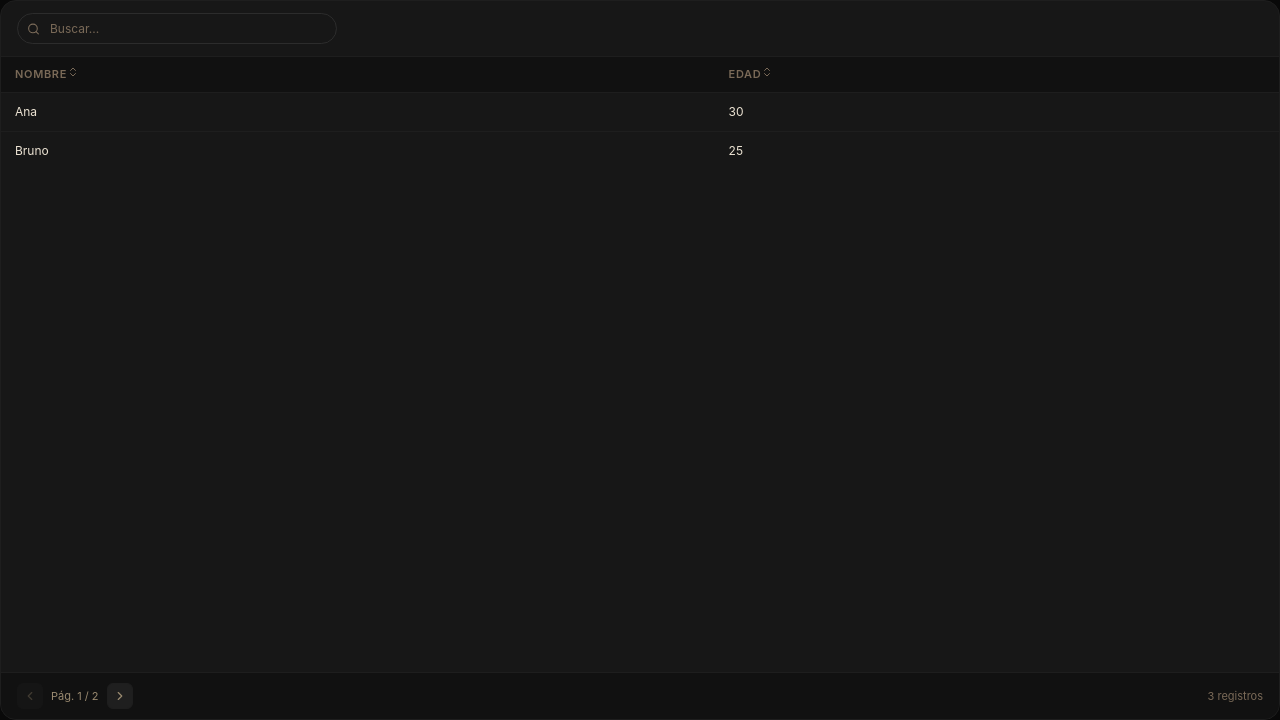
Test: DataTable › pagination: previous button returns to the first page
Click the button named "Página siguiente" at (120, 696), box top-left (106, 683), bottom-right (132, 709)
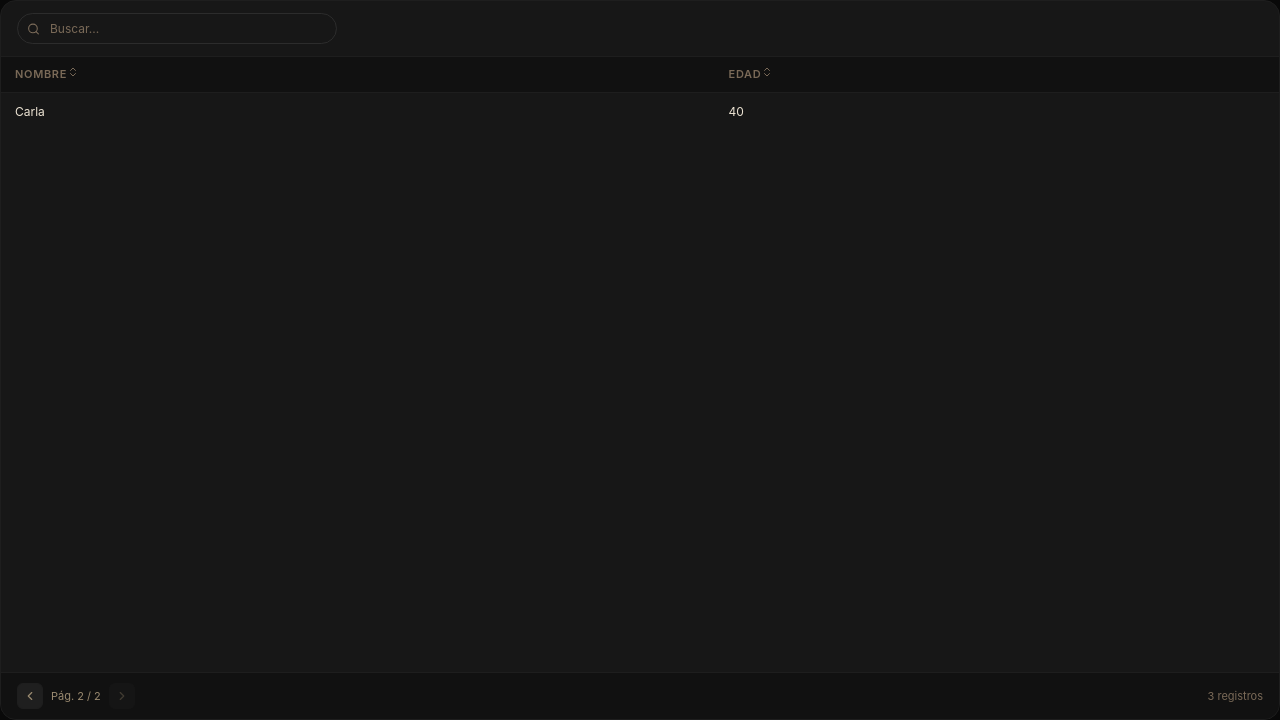
Check: the text "Carla" is shown, box top-left (1, 92), bottom-right (715, 130)
Click the button named "Página anterior" at (30, 696), box top-left (17, 683), bottom-right (43, 709)
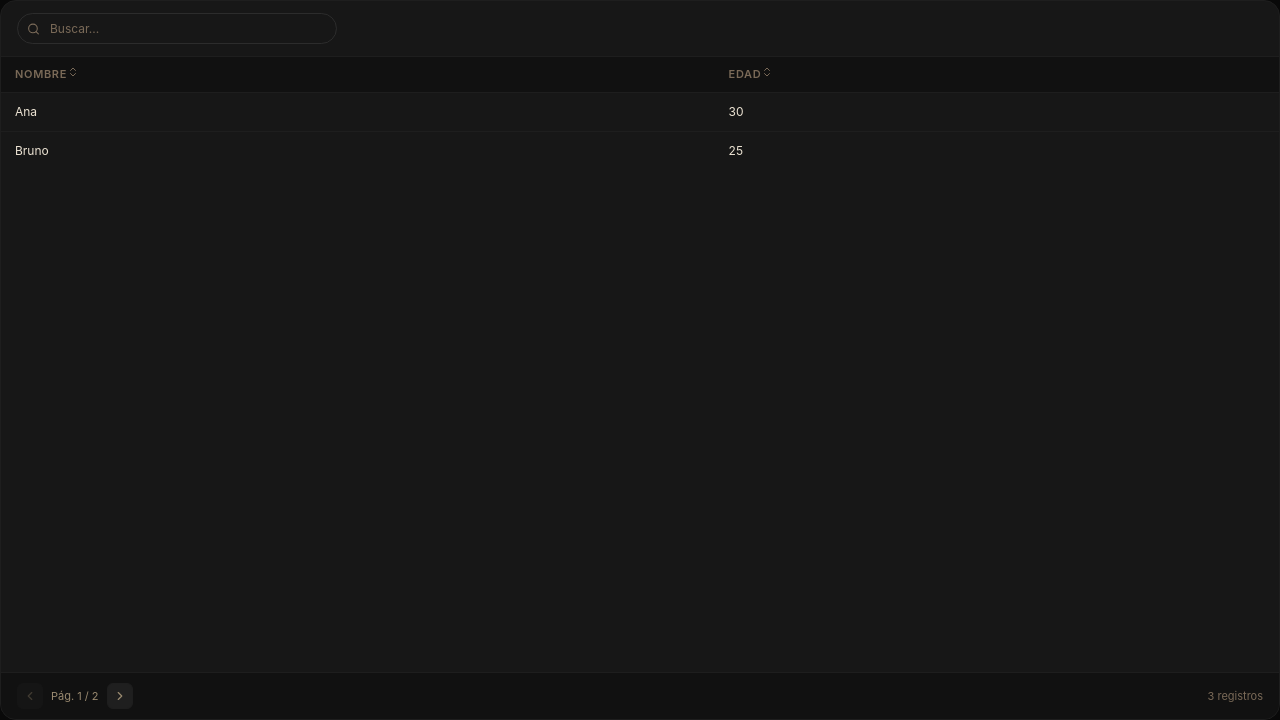
Check: the text "Ana" is shown, box top-left (1, 92), bottom-right (715, 131)
